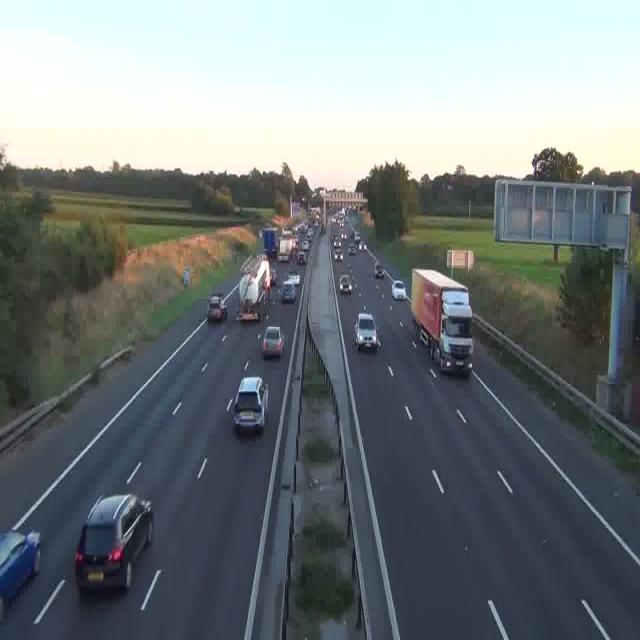car: (74, 494, 154, 595), (0, 529, 42, 616), (234, 375, 268, 434), (355, 312, 379, 351), (261, 326, 284, 358), (206, 295, 228, 322), (391, 279, 407, 301), (282, 281, 298, 302), (339, 274, 353, 293), (288, 271, 300, 288), (374, 262, 386, 278), (294, 250, 306, 265), (370, 254, 380, 268), (334, 249, 344, 262), (362, 242, 370, 253), (349, 243, 357, 254)
truck: (410, 269, 474, 375), (239, 255, 272, 320), (263, 226, 280, 260)
